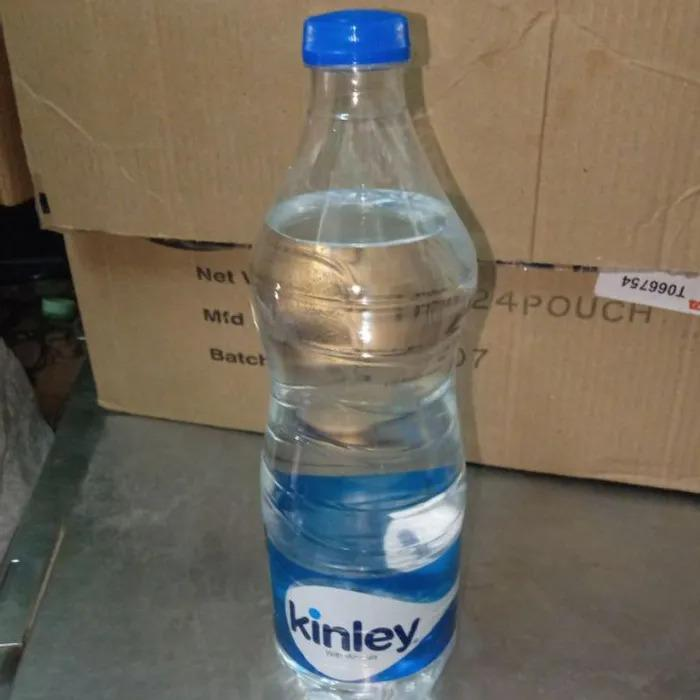plastic_bottle: (239, 7, 476, 678)
